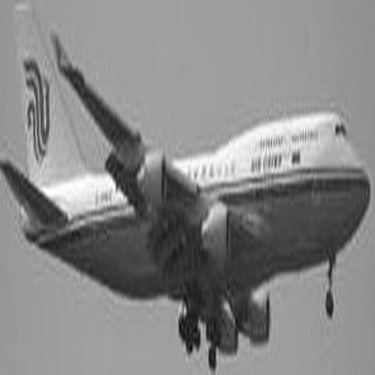airplane: (3, 1, 360, 362)
